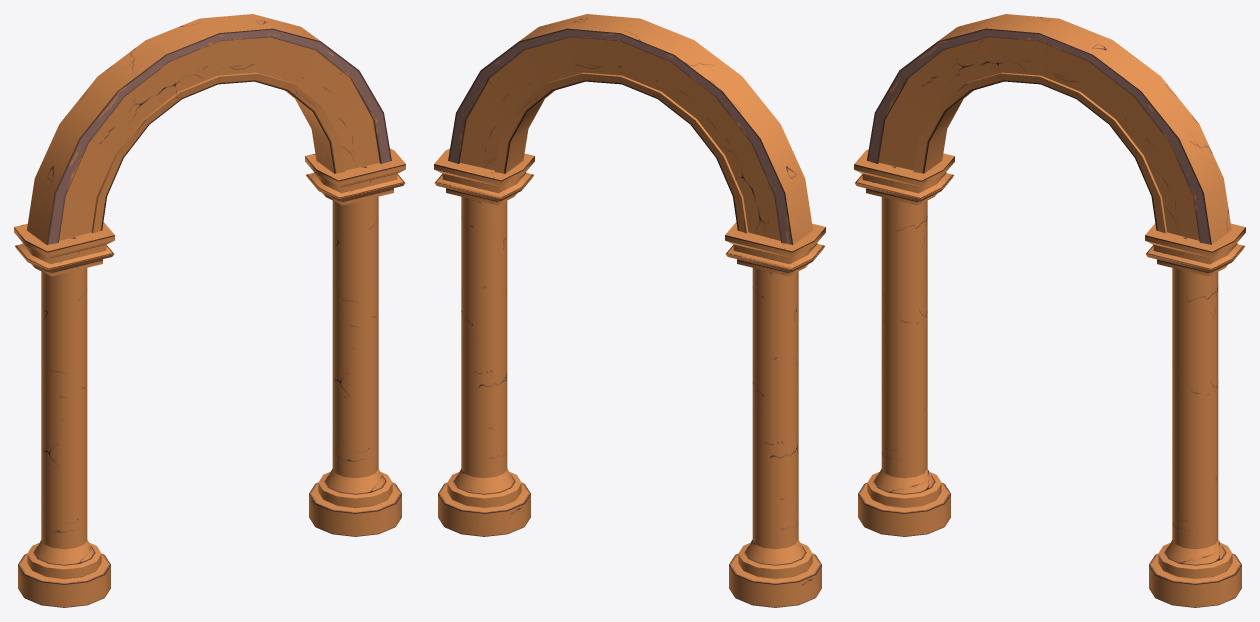
The model's file is Archway_2.fbx.
3 renders of one model, left to right at view 1: azimuth 30°, elevation 25°; view 2: azimuth 150°, elevation 25°; view 3: azimuth 330°, elevation 25°, orthographic.
Visible parts, largest first — view 1: Archway; view 2: Archway; view 3: Archway.
Part boxes in pixels (left/top/right/bottom): Archway: left=14, top=14, right=405, bottom=607; Archway: left=434, top=14, right=825, bottom=607; Archway: left=854, top=14, right=1245, bottom=607.
Bounding box in the file's own units: 932 × 202 × 1263.
